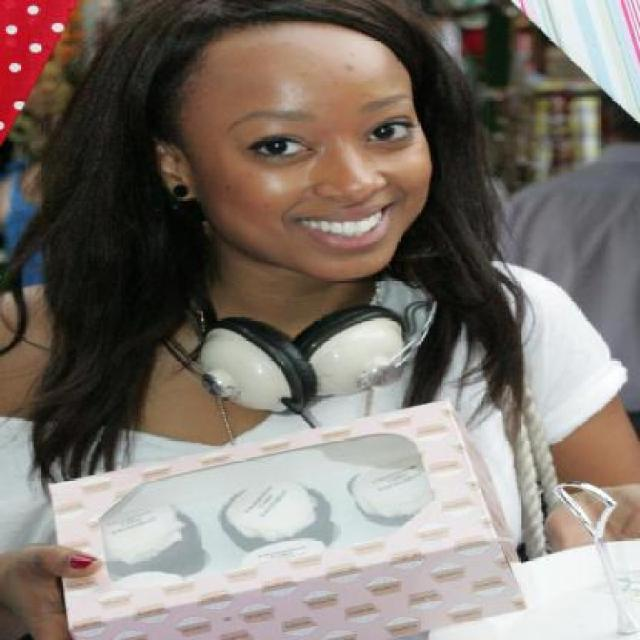earphone: (135, 227, 464, 405)
